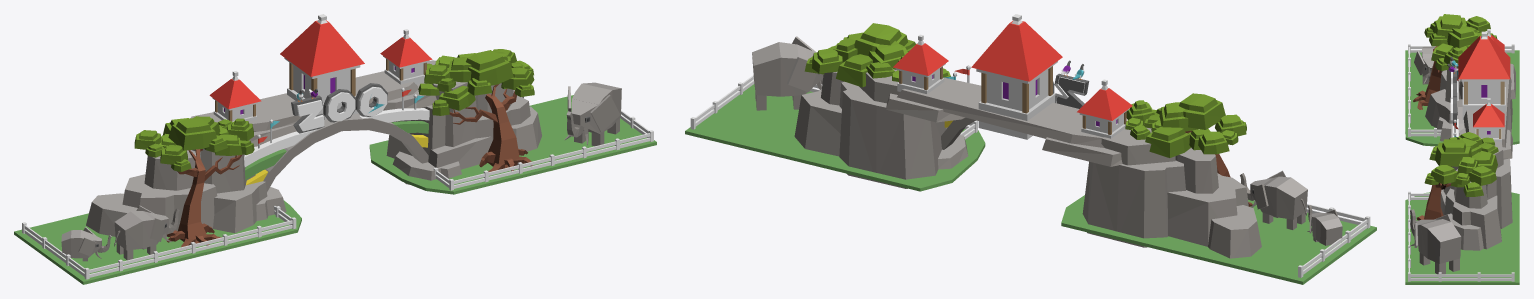
File: damen_03.FBX
3 views of the same model, side by side, from view 1: azimuth 30°, elevation 25°; view 2: azimuth 150°, elevation 25°; view 3: azimuth 270°, elevation 25° (orthographic). The views are drawn at different scales.
Visible parts, largest first — view 1: Plane007; view 2: Plane007; view 3: Plane007.
Boxes of the visible parts, x1,y1,x2,y2 form: Plane007: [14, 14, 656, 284]; Plane007: [685, 14, 1376, 284]; Plane007: [1405, 14, 1519, 284].
Bounding box in the file's own units: 13925 × 4081 × 2904.
